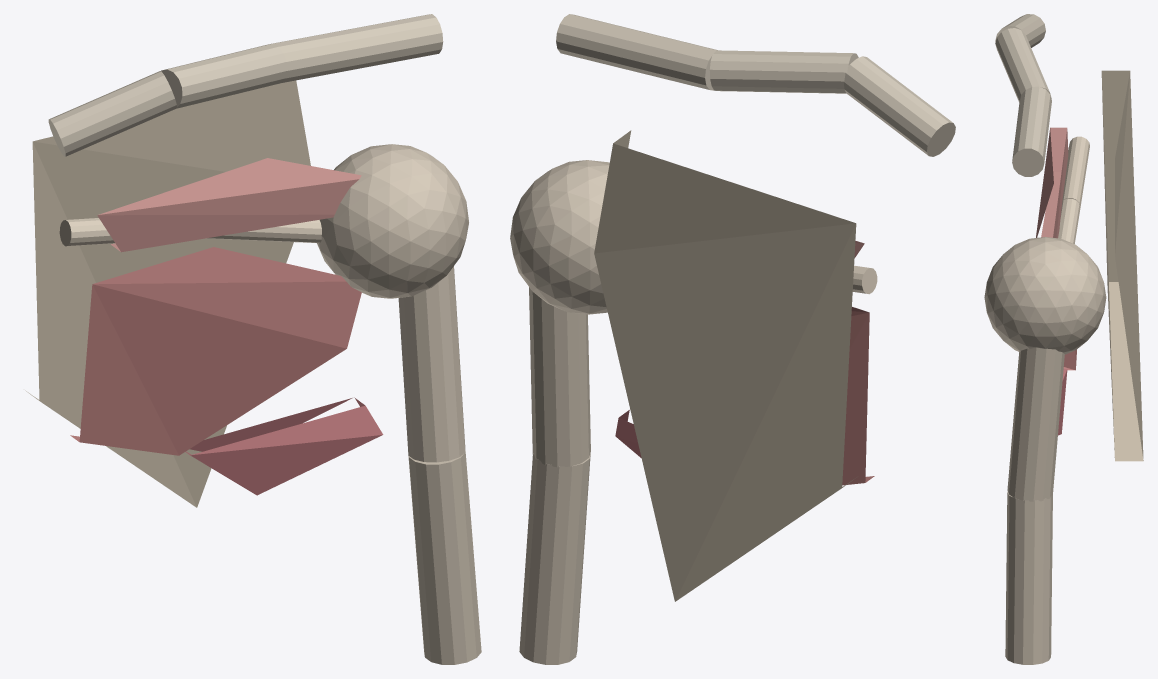
File: prototyp_3d_419.glb
3 renders of one model, left to right at view 1: azimuth 30°, elevation 25°; view 2: azimuth 150°, elevation 25°; view 3: azimuth 270°, elevation 25°, orthographic. The views are drawn at different scales.
Visible parts, largest first — view 1: infraspinatus, humerus, scapula, clavicle, supraspinatus, teres_major, scapular_spine; view 2: scapula, humerus, clavicle, infraspinatus; view 3: humerus, scapula, clavicle, supraspinatus, scapular_spine, teres_major.
Part boxes in pixels (x1,y1,x2,y2): infraspinatus: [70, 247, 361, 455]; humerus: [317, 144, 481, 664]; scapula: [25, 80, 310, 507]; clavicle: [48, 14, 443, 156]; supraspinatus: [97, 158, 361, 252]; teres_major: [185, 397, 383, 495]; scapular_spine: [59, 218, 321, 246]; scapula: [594, 130, 856, 601]; humerus: [510, 160, 609, 664]; clavicle: [556, 14, 955, 156]; infraspinatus: [842, 307, 874, 485]; humerus: [984, 237, 1106, 664]; scapula: [1101, 70, 1143, 461]; clavicle: [995, 14, 1051, 176]; supraspinatus: [1036, 127, 1068, 238]; scapular_spine: [1058, 136, 1089, 243]; teres_major: [1058, 368, 1067, 435].
Bounding box in the file's own units: 2.02 × 3 × 0.835.
